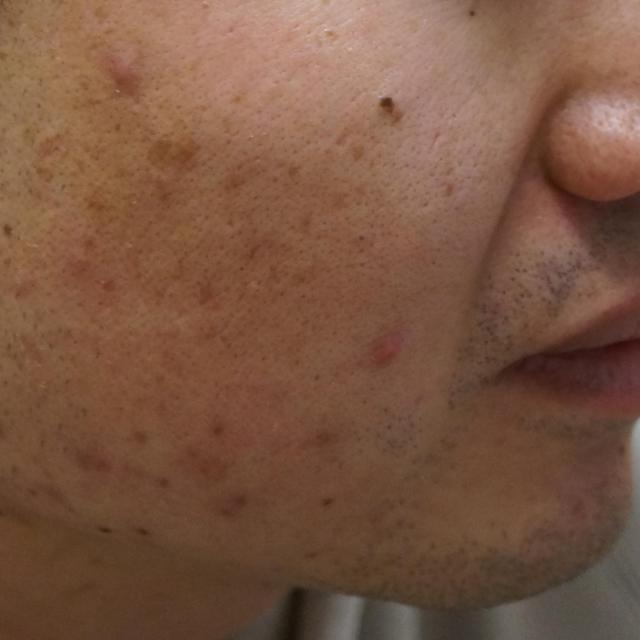blackhead: (322, 496, 332, 506), (115, 125, 120, 133), (315, 374, 319, 381), (358, 236, 364, 240), (237, 96, 240, 102), (240, 267, 244, 271), (4, 380, 8, 384), (470, 12, 474, 16), (302, 294, 305, 298)
nodule: (371, 335, 398, 366), (112, 61, 136, 87)
